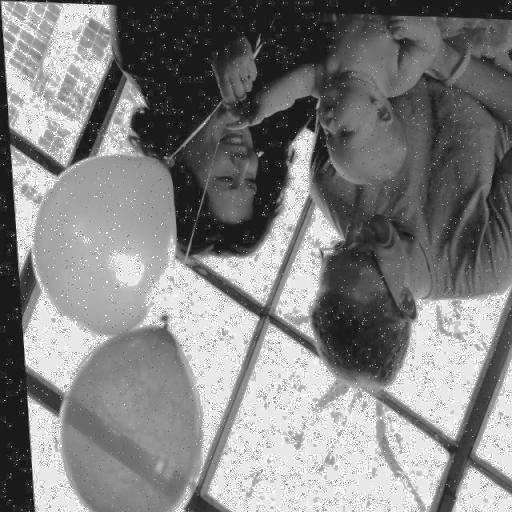balloon: (21, 152, 179, 332), (48, 328, 198, 512)
